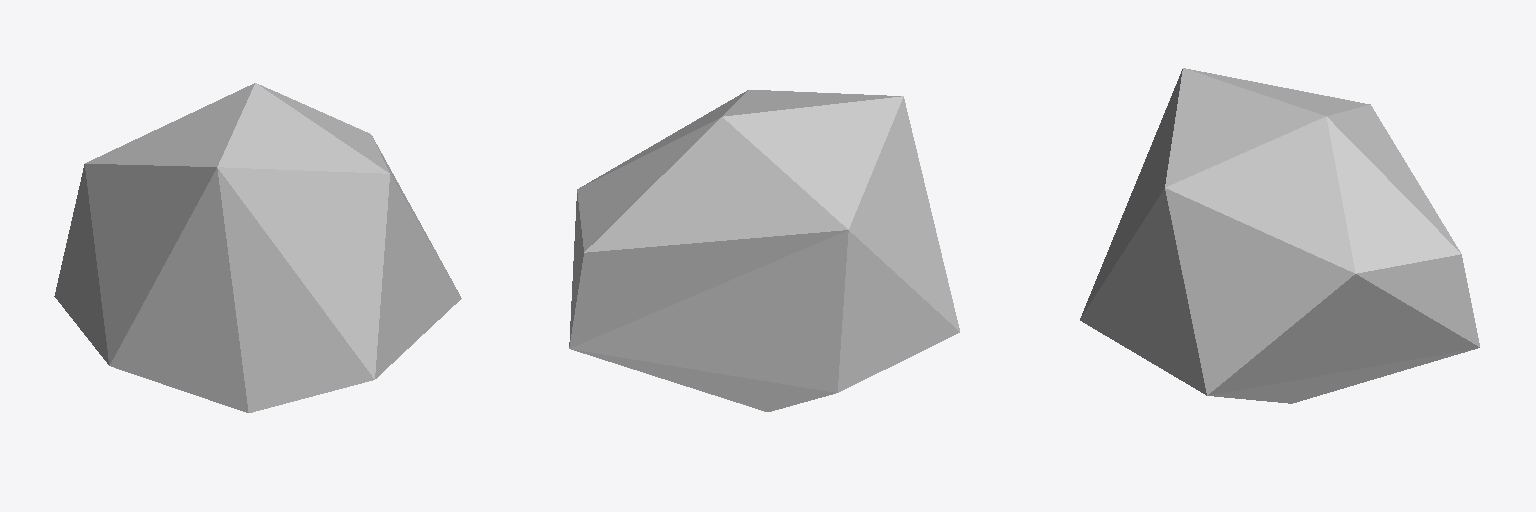
File: Rock4.obj
The picture shows the model from 3 angles: view 1: azimuth 30°, elevation 25°; view 2: azimuth 150°, elevation 25°; view 3: azimuth 270°, elevation 25°; orthographic projection.
Parts seen in each view (by area): view 1: Icosphere.001; view 2: Icosphere.001; view 3: Icosphere.001.
Part boxes in pixels (x1,y1,x2,y2): Icosphere.001: (54,83,461,412); Icosphere.001: (569,90,959,411); Icosphere.001: (1080,68,1479,403).
Size of the model in its own units: 0.269 by 0.2285 by 0.2754.